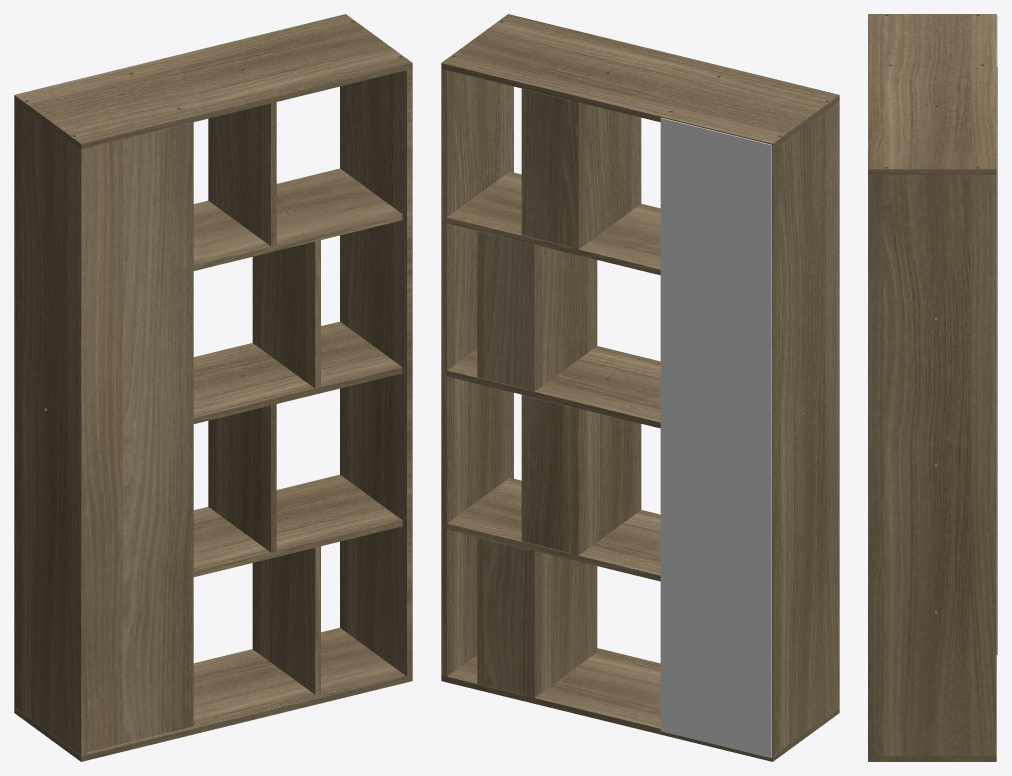
3 renders of one model, left to right at view 1: azimuth 30°, elevation 25°; view 2: azimuth 150°, elevation 25°; view 3: azimuth 270°, elevation 25°, orthographic. The views are drawn at different scales.
Parts seen in each view (by area): view 1: A322250-COSTADOSIZ; view 2: A322250-COSTADOSIZ; view 3: A322250-COSTADOSIZ.
Boxes of the visible parts, x1,y1,x2,y2 form: A322250-COSTADOSIZ: [14, 14, 412, 761]; A322250-COSTADOSIZ: [441, 14, 839, 761]; A322250-COSTADOSIZ: [868, 14, 997, 761].
Size of the model in its own units: 9 by 16.03 by 3.18.
Materials: 1 (1 with a texture image).
